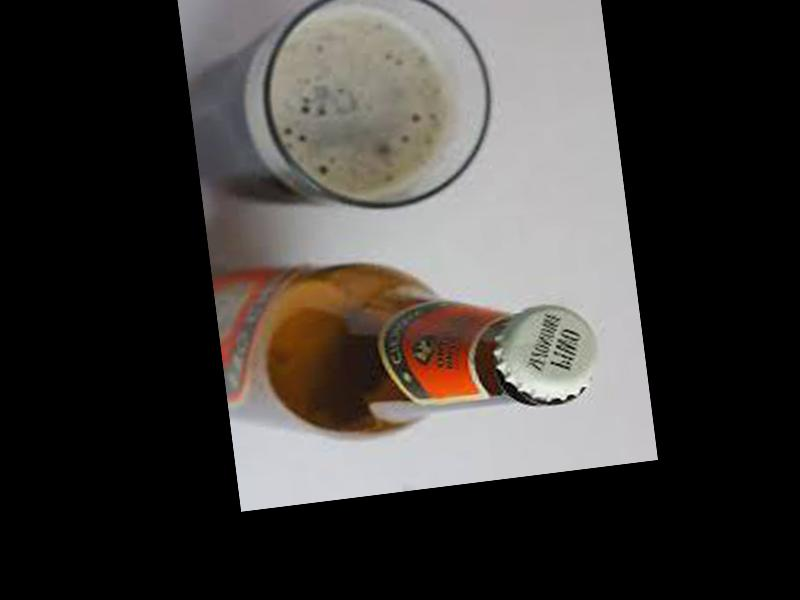Beer: (210, 224, 604, 454)
